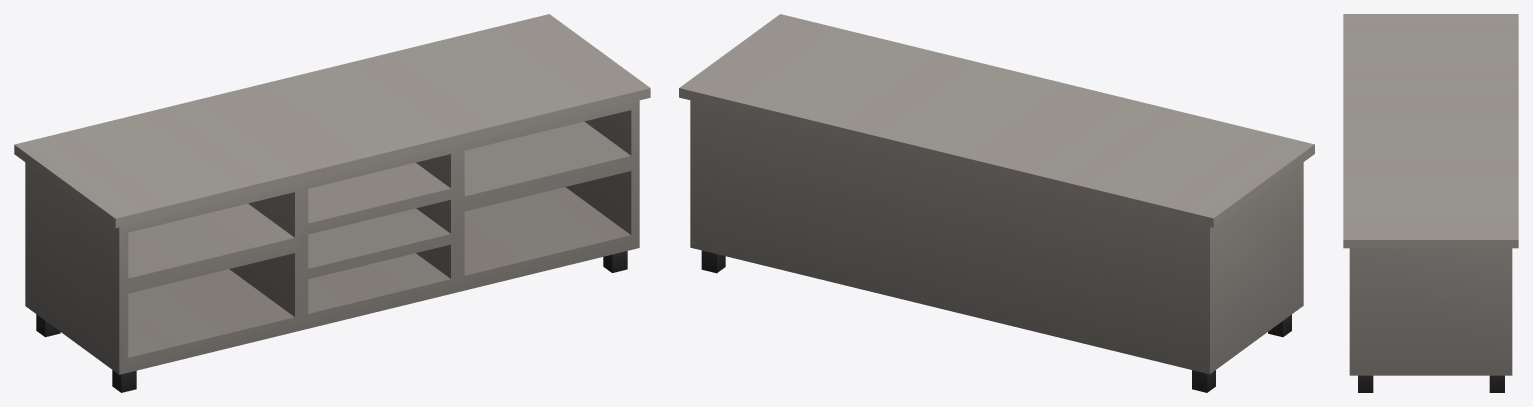
File: SideboardCabinet_B_Open_Gray.fbx
3 views of the same model, side by side, from view 1: azimuth 30°, elevation 25°; view 2: azimuth 150°, elevation 25°; view 3: azimuth 270°, elevation 25° (orthographic). The views are drawn at different scales.
Parts seen in each view (by area): view 1: SideboardCabinet_B_Open_Gray; view 2: SideboardCabinet_B_Open_Gray; view 3: SideboardCabinet_B_Open_Gray.
Boxes of the visible parts, x1,y1,x2,y2 form: SideboardCabinet_B_Open_Gray: (14, 14, 650, 392); SideboardCabinet_B_Open_Gray: (679, 14, 1314, 392); SideboardCabinet_B_Open_Gray: (1343, 14, 1518, 392).
Bounding box in the file's own units: 244 × 80.14 × 80.
